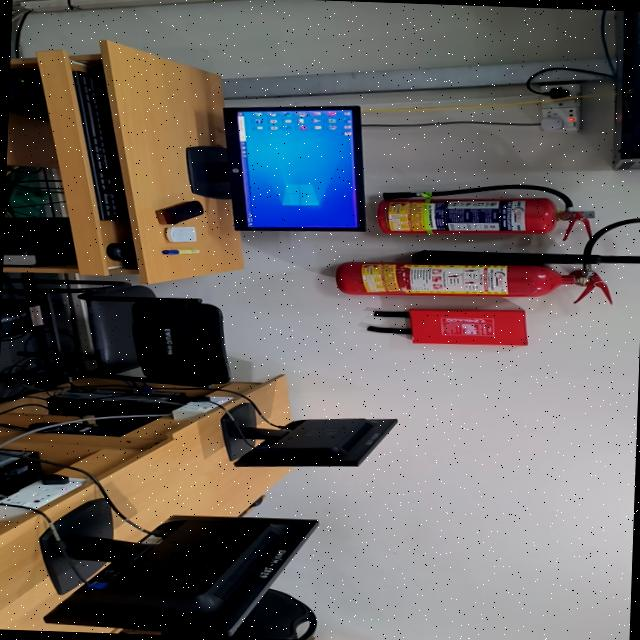Chair: (77, 283, 229, 385), (223, 588, 315, 640)
Cpu: (48, 387, 189, 435), (2, 217, 74, 266), (0, 450, 41, 495)
Fire Extinguisher: (336, 262, 610, 302), (376, 198, 592, 234)
Keyboard: (72, 70, 127, 220)
Monitor: (39, 498, 317, 636), (222, 106, 363, 231), (221, 416, 395, 466)
Mouse: (105, 243, 133, 263)
